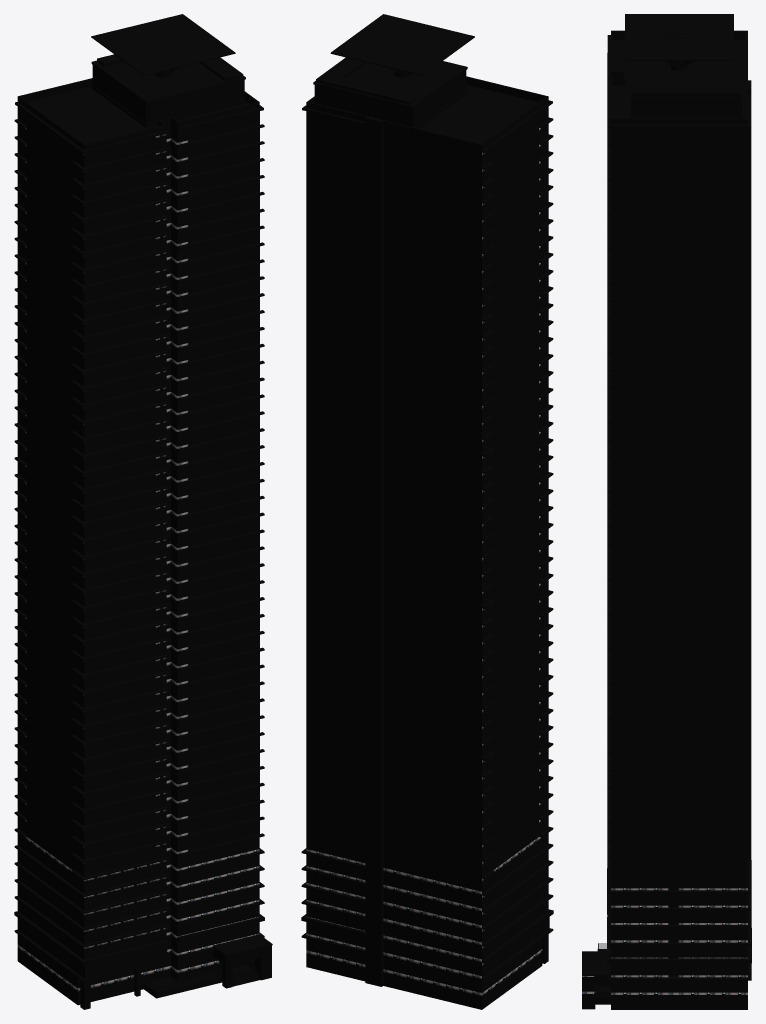
The model's file is HighriseTower103_L1_5x4_LOD1.fbx.
3 renders of one model, left to right at view 1: azimuth 30°, elevation 25°; view 2: azimuth 150°, elevation 25°; view 3: azimuth 270°, elevation 25°, orthographic. The views are drawn at different scales.
Visible parts, largest first — view 1: HighriseTower103_L1_5x4_LOD1; view 2: HighriseTower103_L1_5x4_LOD1; view 3: HighriseTower103_L1_5x4_LOD1.
Part boxes in pixels (x1,y1,x2,y2): HighriseTower103_L1_5x4_LOD1: (14,14,272,1009); HighriseTower103_L1_5x4_LOD1: (301,14,553,1009); HighriseTower103_L1_5x4_LOD1: (582,14,751,1009).
Size of the model in its own units: 3320 by 15917 by 2600.
Materials: 1 (1 with a texture image).
